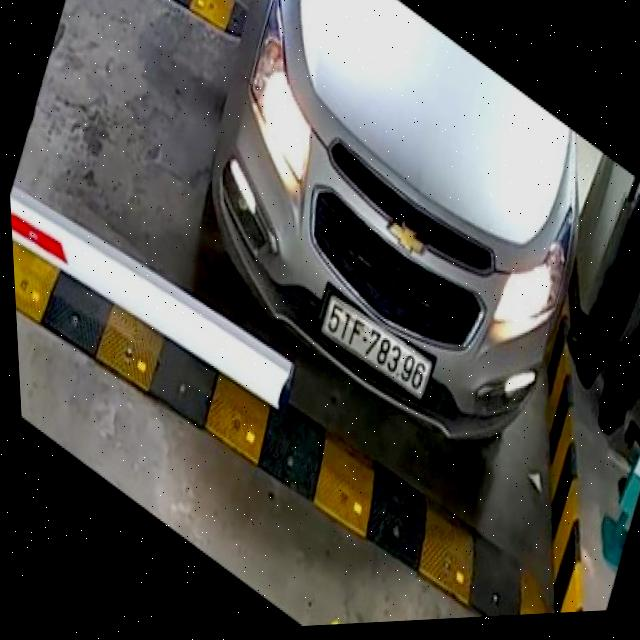car: (188, 0, 595, 465)
plate: (316, 285, 441, 412)
